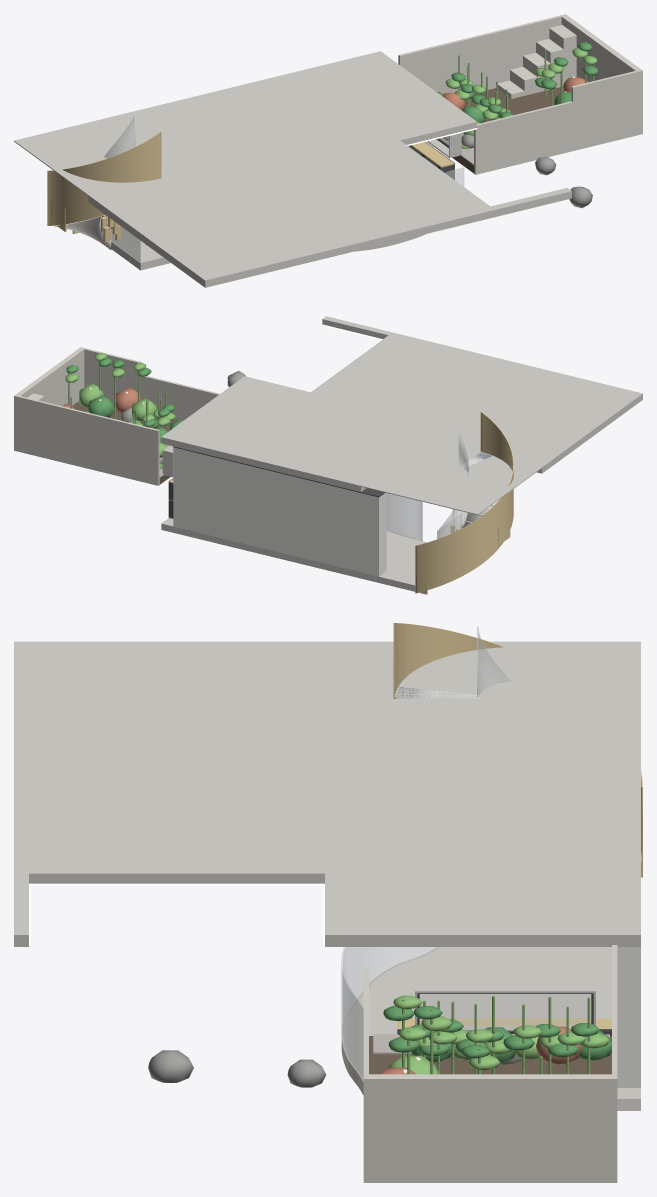
3 views of the same model, one above another, from view 1: azimuth 30°, elevation 25°; view 2: azimuth 150°, elevation 25°; view 3: azimuth 270°, elevation 25° (orthographic). The views are drawn at different scales.
Visible parts, largest first — view 1: B1_Ceiling_MainSlab_Cap_W, B1_Ceiling_MainSlab_Cap_NE, B1_Garden_SideWallN, B1_Garden_SideWallS, B1_Garden_SideWallS_Ext, B1_To_1F_Spiral_OuterBalustrade, B1_Garden_BackWallLow, B1_Garden_SoilBed, B1_Mezz_NW_Arrival, B1_Ceiling_Dropped_SW, B1_Ceiling_MainSlab_SW, B1_Garden_StoneStep_1 (+10 smaller); view 2: B1_Ceiling_MainSlab_Cap_W, B1_Grid_Carcass, B1_Garden_SideWallN, B1_To_1F_Spiral_OuterBalustrade, B1_Ceiling_MainSlab_Cap_NE, B1_Mezz_Slab, B1_Garden_BackWallLow, B1_Garden_SideWallS, B1_Garden_SideWallS_Ext, B1_Platform_Glass_Curved, B1_Mezz_NW_Arrival, B1_To_1F_Spiral_InnerGlass (+6 smaller); view 3: B1_Ceiling_MainSlab_Cap_W, B1_Garden_BackWallLow, B1_Ceiling_MainSlab_Cap_NE, B1_Mezz_Slab, B1_East_Win_Lower_Glass, B1_Platform_Glass_Curved, B1_To_1F_Spiral_OuterBalustrade, B1_Grid_Carcass, B1_Garden_SoilBed, B1_East_Win_Lower_Reveal_Top, B1_Grid_SideR, B1_Ceiling_MainSlab_NE (+12 smaller).
Boxes of the visible parts, box(x1,y1,x2,y2) form: B1_Ceiling_MainSlab_Cap_W: box(14, 70, 495, 281); B1_Ceiling_MainSlab_Cap_NE: box(304, 51, 476, 140); B1_Garden_SideWallN: box(398, 14, 566, 93); B1_Garden_SideWallS: box(474, 101, 572, 174); B1_Garden_SideWallS_Ext: box(571, 69, 642, 150); B1_To_1F_Spiral_OuterBalustrade: box(47, 132, 161, 225); B1_Garden_BackWallLow: box(561, 14, 641, 81); B1_Garden_SoilBed: box(452, 86, 564, 173); B1_Mezz_NW_Arrival: box(111, 227, 170, 270); B1_Ceiling_Dropped_SW: box(88, 199, 340, 287); B1_Ceiling_MainSlab_SW: box(88, 196, 340, 284); B1_Garden_StoneStep_1: box(549, 25, 576, 82); B1_Ceiling_MainSlab_Cap_W: box(227, 332, 642, 514); B1_Grid_Carcass: box(173, 447, 384, 575); B1_Garden_SideWallN: box(14, 395, 159, 485); B1_To_1F_Spiral_OuterBalustrade: box(415, 412, 513, 593); B1_Ceiling_MainSlab_Cap_NE: box(161, 376, 310, 453); B1_Mezz_Slab: box(161, 518, 421, 581); B1_Garden_BackWallLow: box(15, 347, 84, 405); B1_Garden_SideWallS: box(139, 376, 219, 420); B1_Garden_SideWallS_Ext: box(80, 347, 141, 404); B1_Platform_Glass_Curved: box(386, 493, 422, 540); B1_Mezz_NW_Arrival: box(375, 541, 427, 591); B1_To_1F_Spiral_InnerGlass: box(437, 429, 469, 538); B1_Ceiling_MainSlab_Cap_W: box(14, 641, 640, 875); B1_Garden_BackWallLow: box(366, 1074, 615, 1182); B1_Ceiling_MainSlab_Cap_NE: box(325, 873, 640, 936); B1_Mezz_Slab: box(343, 947, 640, 1110); B1_East_Win_Lower_Glass: box(420, 994, 590, 1030); B1_Platform_Glass_Curved: box(341, 947, 437, 1081); B1_To_1F_Spiral_OuterBalustrade: box(393, 623, 642, 877); B1_Grid_Carcass: box(621, 947, 640, 1085); B1_Garden_SoilBed: box(369, 1036, 611, 1074); B1_East_Win_Lower_Reveal_Top: box(415, 981, 595, 993); B1_Grid_SideR: box(617, 947, 640, 1085); B1_Ceiling_MainSlab_NE: box(325, 936, 640, 941).
Size of the model in its own units: 11.67 by 3.19 by 7.12.
Materials: 23 (1 with a texture image).
